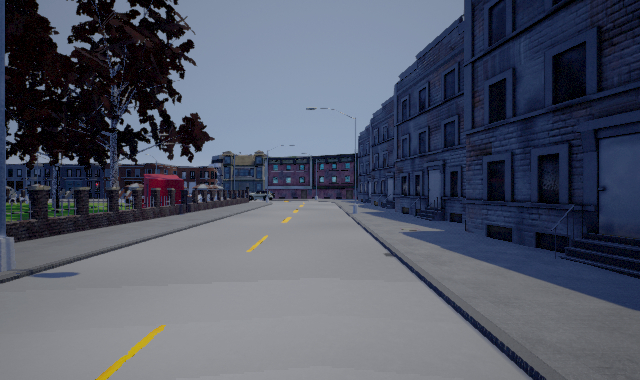vehicle: (246, 190, 273, 201)
